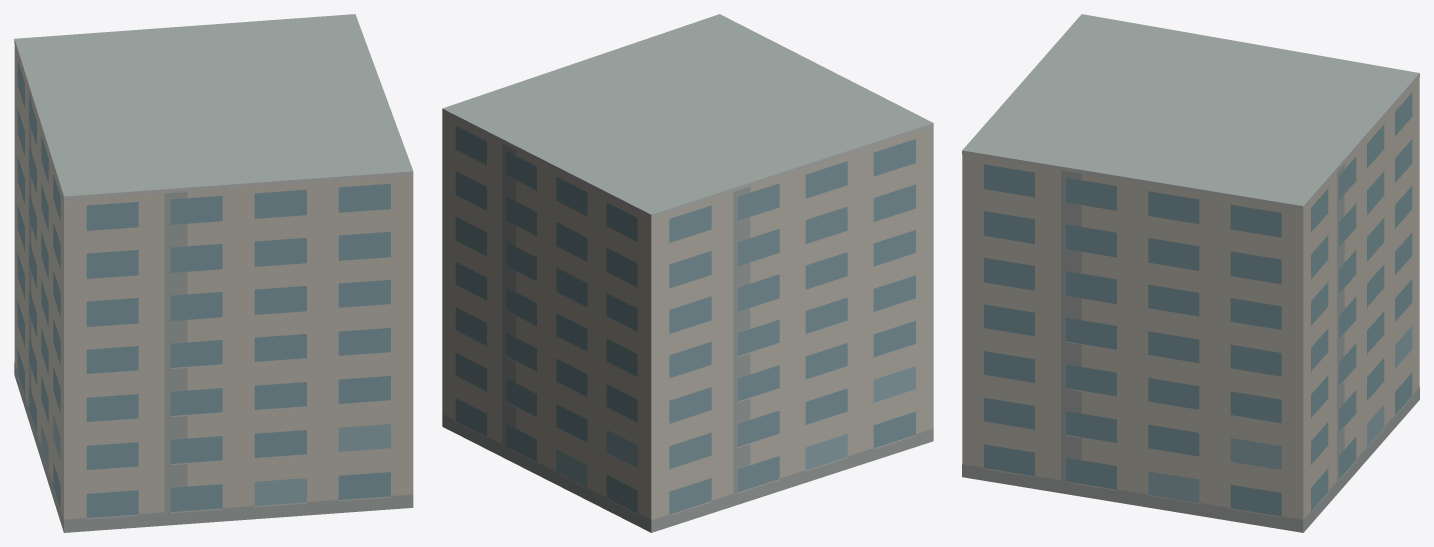
The model's file is survey-upis-32954143.glb.
The picture shows the model from 3 angles, left to right: view 1: azimuth 30°, elevation 25°; view 2: azimuth 150°, elevation 25°; view 3: azimuth 270°, elevation 25°; orthographic projection. The views are drawn at different scales.
Parts seen in each view (by area): view 1: survey-upis-32954143.tmp; view 2: survey-upis-32954143.tmp; view 3: survey-upis-32954143.tmp.
Part boxes in pixels (x1,y1,x2,y2): survey-upis-32954143.tmp: [14, 14, 413, 532]; survey-upis-32954143.tmp: [442, 14, 933, 532]; survey-upis-32954143.tmp: [962, 14, 1419, 532].
Size of the model in its own units: 24.43 by 19.35 by 24.58.
